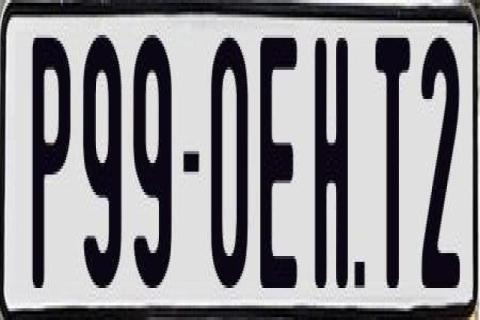0: (132, 29, 176, 291), (80, 32, 121, 302), (420, 35, 462, 297), (212, 29, 250, 294)
E: (259, 32, 297, 288)
H: (313, 38, 350, 288)
P: (33, 35, 72, 291)
T: (376, 35, 413, 285)
